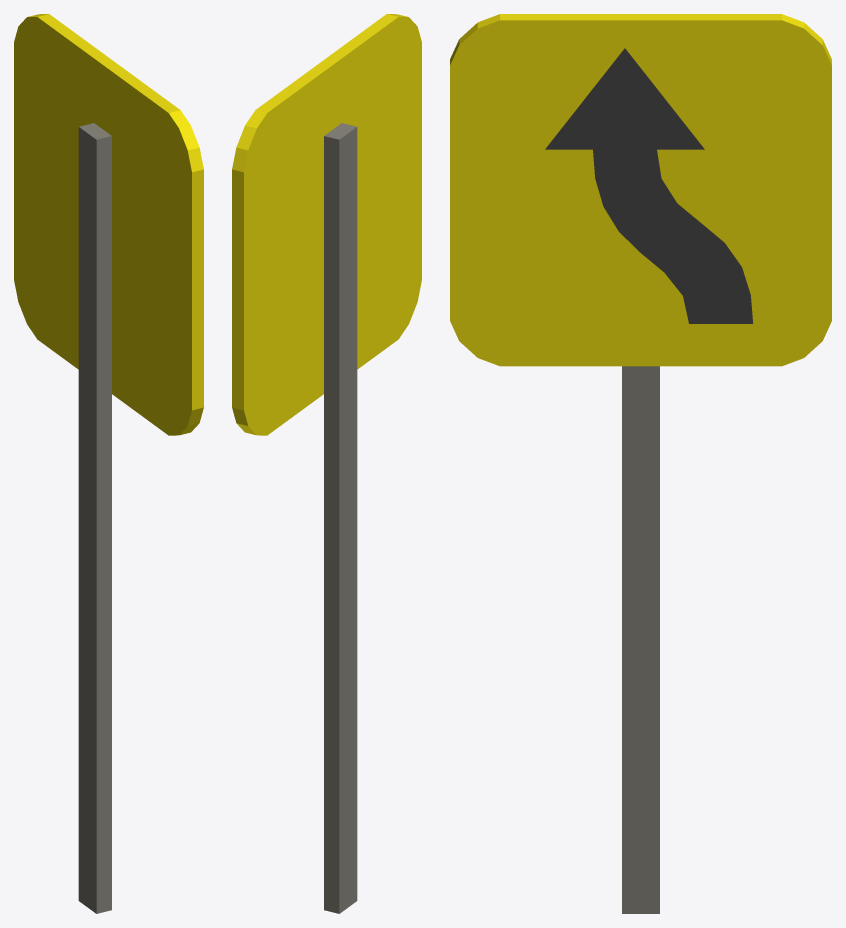
The model's file is Prop_Track_Sign_Upcoming_Esse.obj.
The picture shows the model from 3 angles, left to right: view 1: azimuth 30°, elevation 25°; view 2: azimuth 150°, elevation 25°; view 3: azimuth 270°, elevation 25°; orthographic projection. The views are drawn at different scales.
Visible parts, largest first — view 1: Sign_Yellow, Sign_Post; view 2: Sign_Yellow, Sign_Post; view 3: Sign_Yellow, Sign_Black_Paint, Sign_Post.
Boxes of the visible parts, bbox=[...] form: Sign_Yellow: bbox=[14, 14, 203, 435]; Sign_Post: bbox=[78, 123, 111, 913]; Sign_Yellow: bbox=[232, 14, 421, 435]; Sign_Post: bbox=[324, 123, 357, 913]; Sign_Yellow: bbox=[450, 14, 831, 366]; Sign_Black_Paint: bbox=[545, 48, 753, 323]; Sign_Post: bbox=[622, 366, 659, 913].
Size of the model in its own units: 0.0458 by 1.34 by 0.5161.
